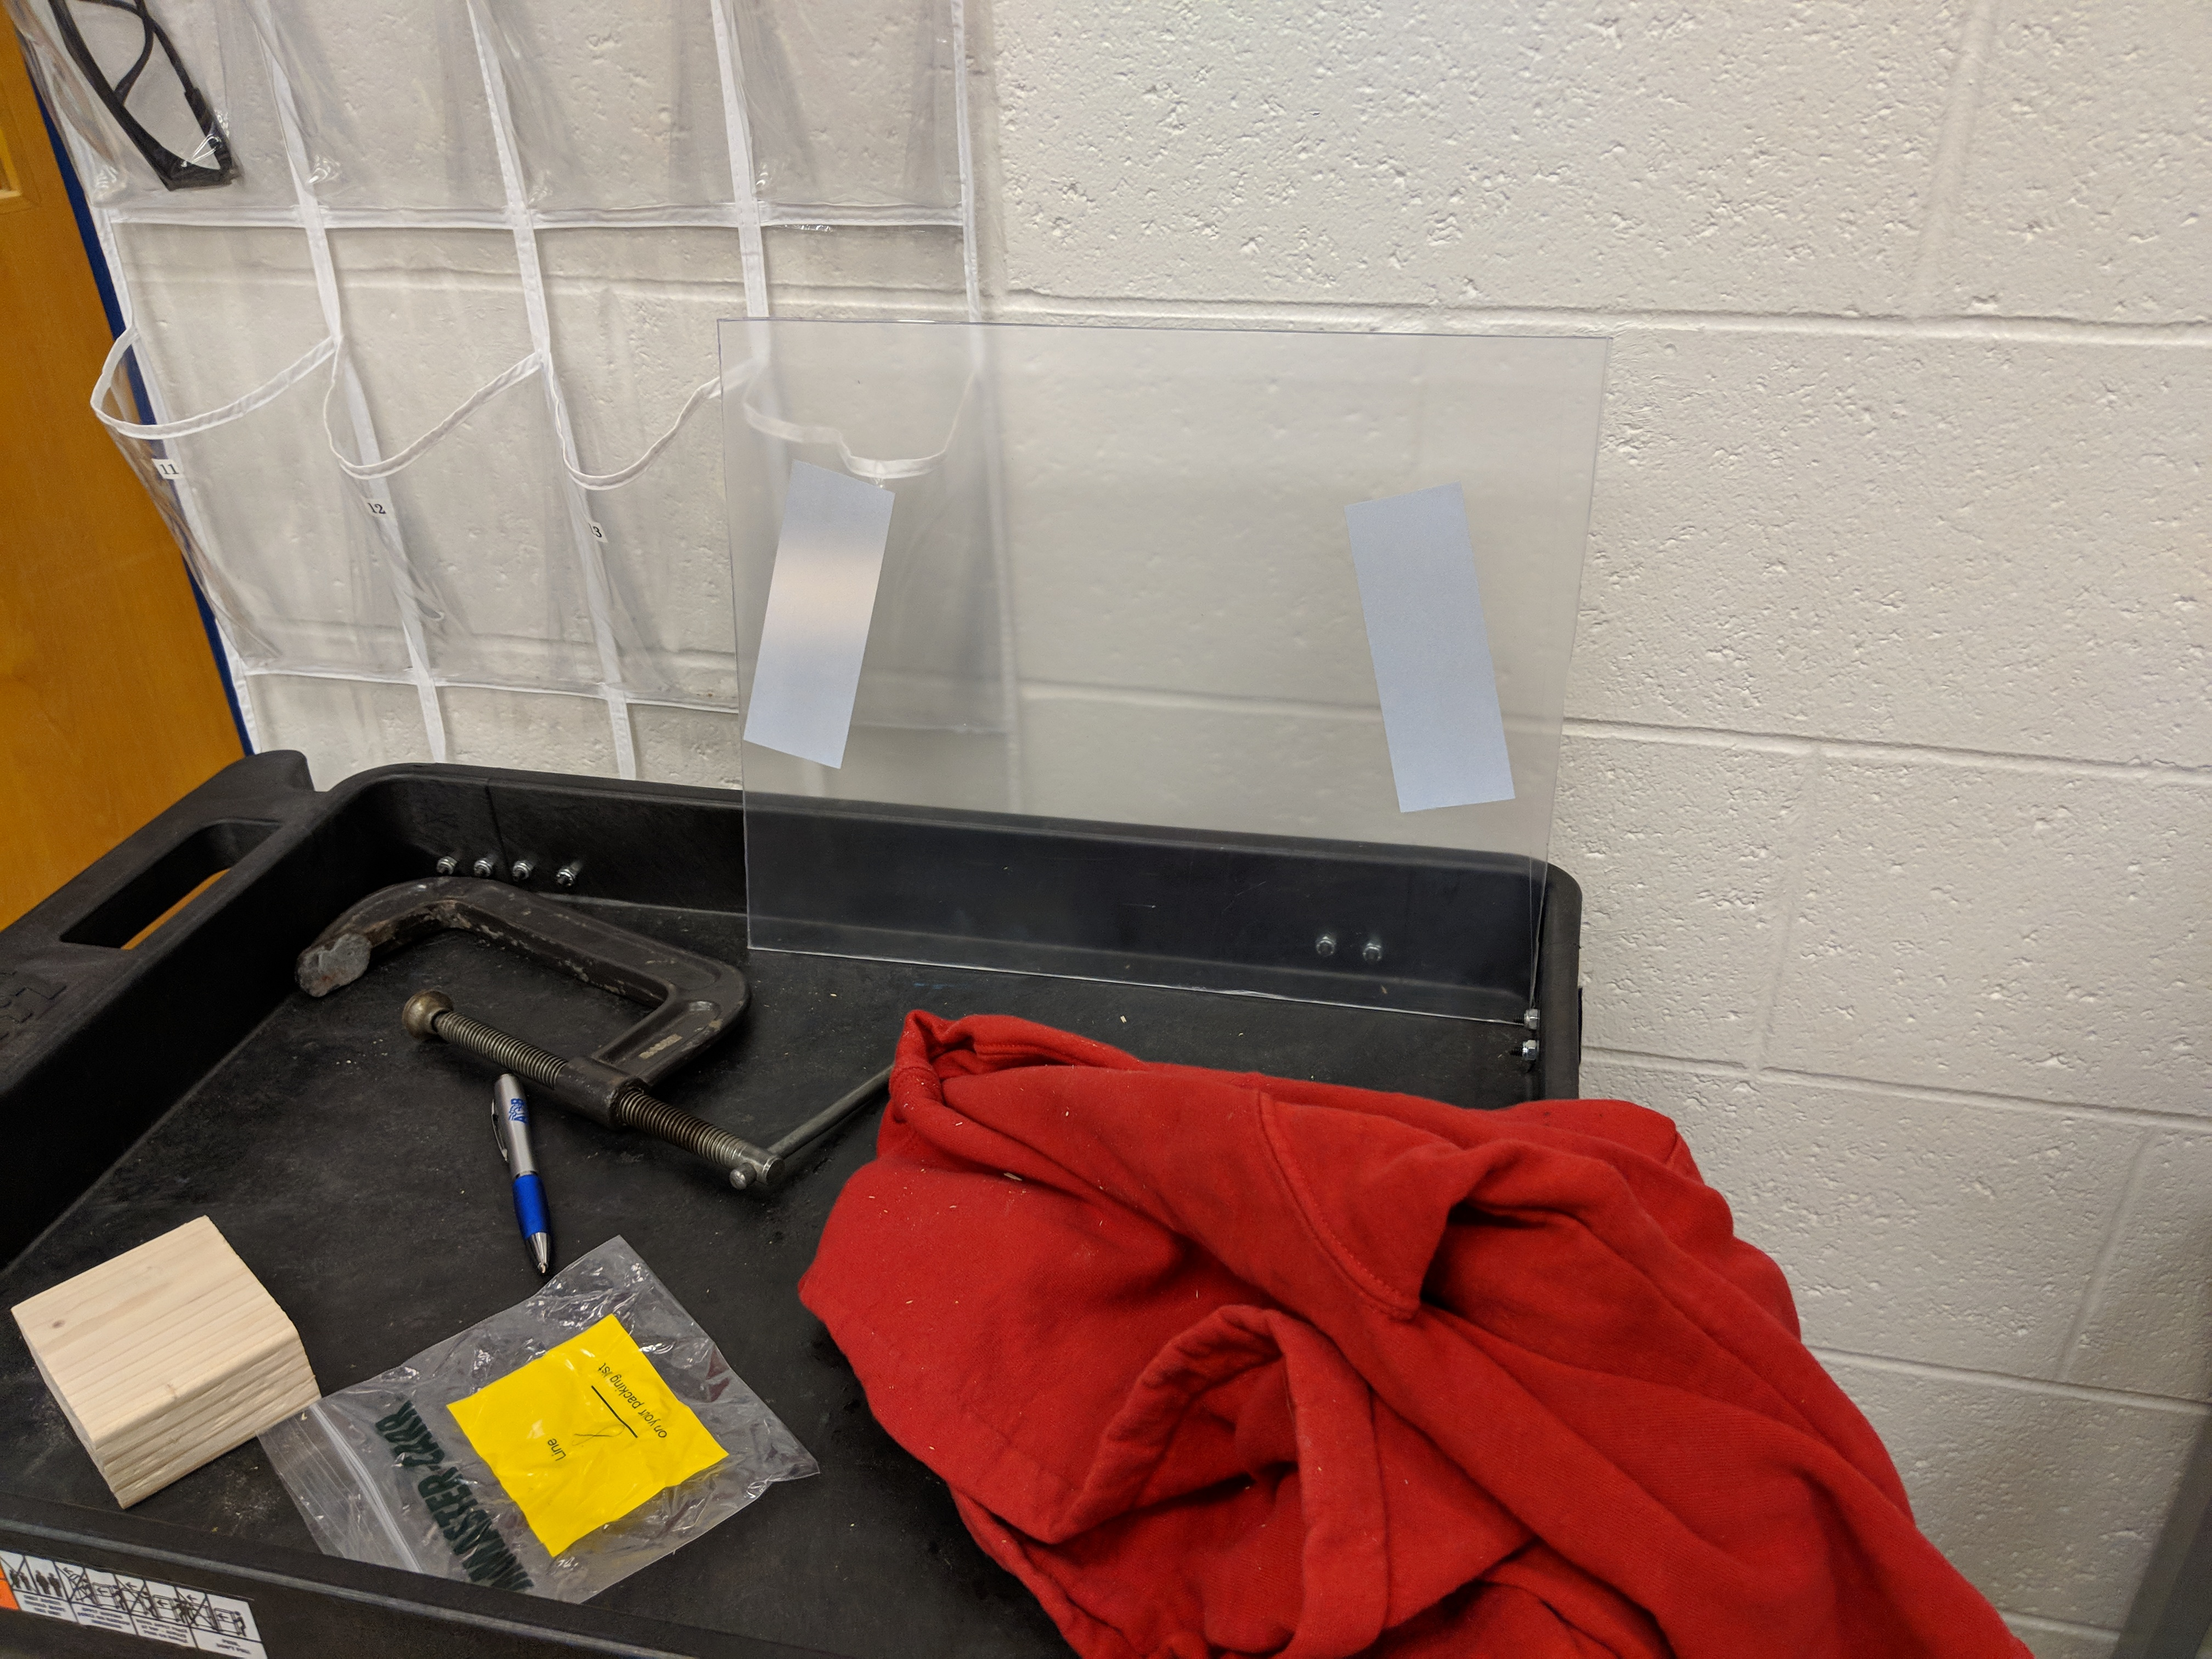vision_target: (730, 450, 1531, 823)
